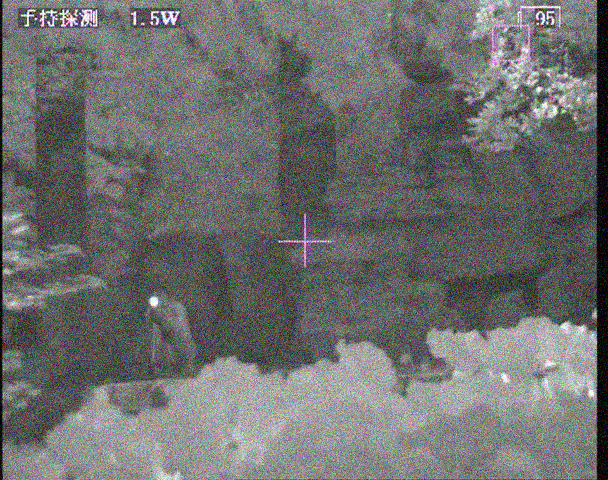my: (148, 294, 161, 311)
